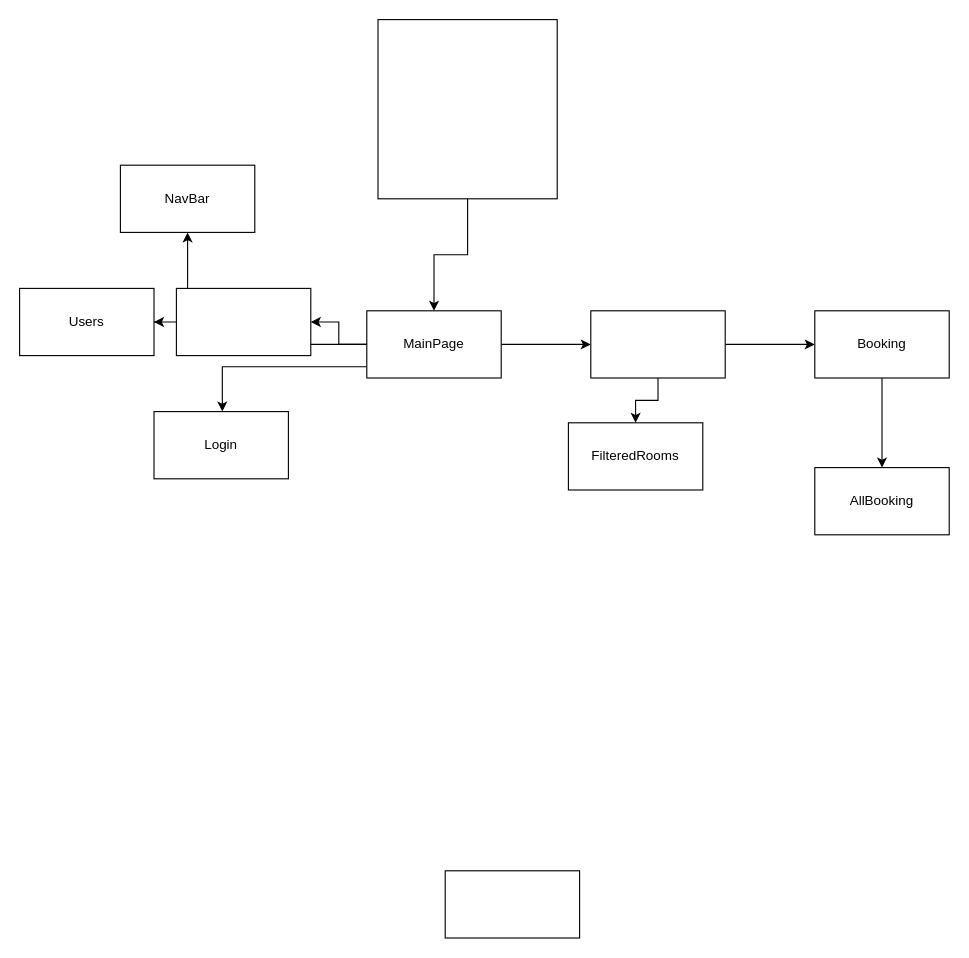
Some shapes in this 969 by 958 pixel diagram are drawn without their labels. The centre of each missing label's shape, as x and y in pixels:
"App.js:" goes at point (467, 108).
"Rooms" goes at point (657, 344).
"SignUp" goes at point (243, 321).
